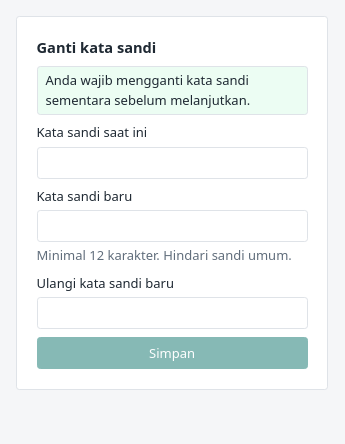
it: alur autentikasi › validasi ganti sandi di klien mencegah permintaan yang pasti ditolak
Type "sandi-sementara-01" into the password field labelled "Kata sandi saat ini". click: (172, 163)
box: 36,147 -> 308,179
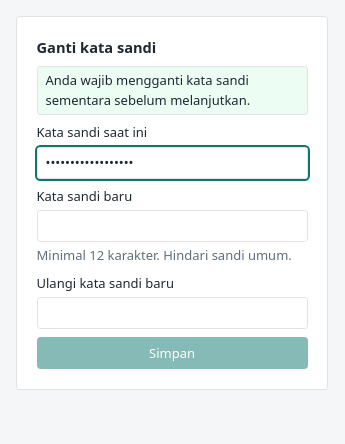
Type "pendek" into the password field labelled "Kata sandi baru". click: (172, 226)
box: 36,210 -> 308,242
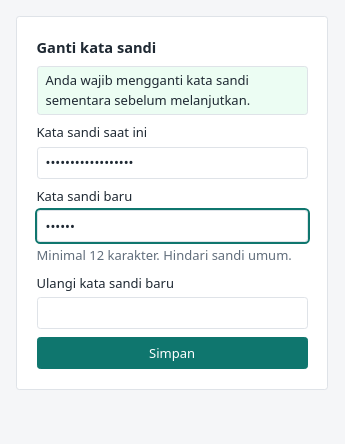
Type "pendek" into the password field labelled "Ulangi kata sandi baru". click: (172, 313)
box: 36,297 -> 308,329
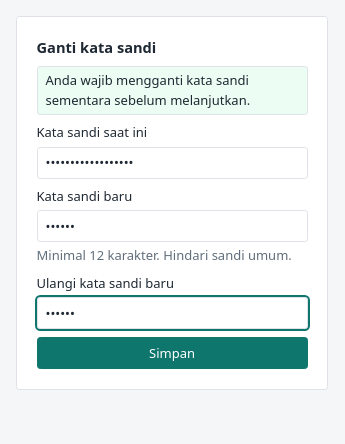
Click the button "Simpan". click: (172, 353)
box: 36,337 -> 308,369
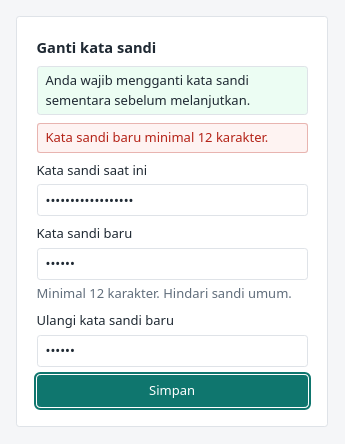
Result: the message "Kata sandi baru minimal 12 karakter." is shown at 36,123 -> 308,153
